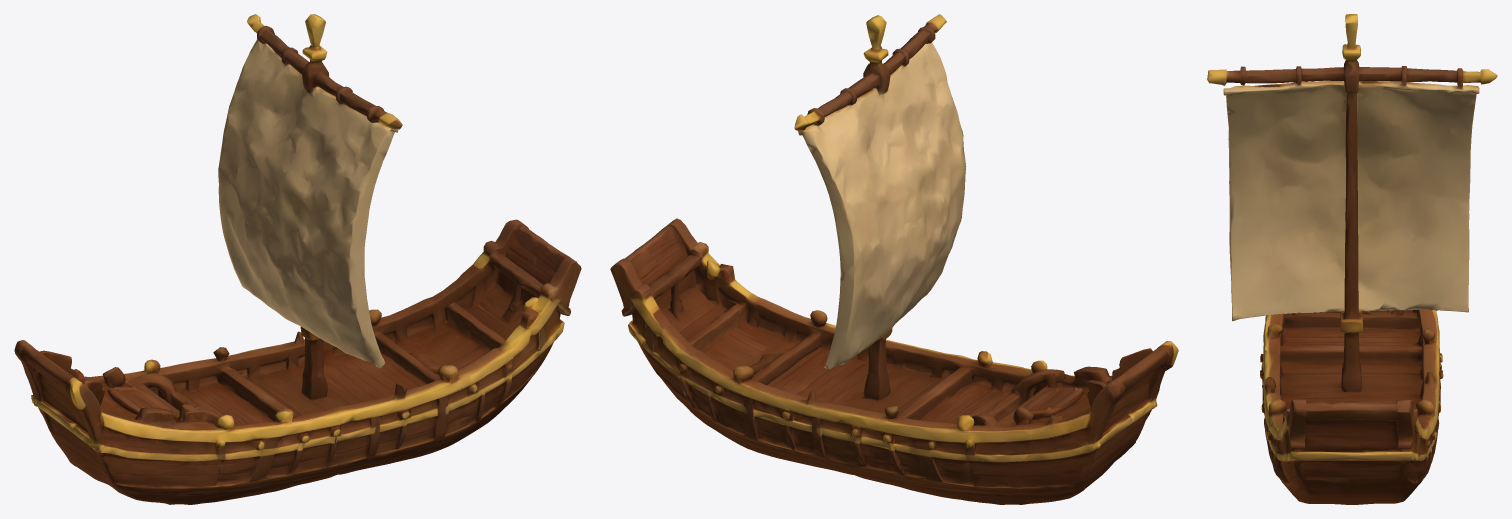
The model's file is ship.glb.
3 renders of one model, left to right at view 1: azimuth 30°, elevation 25°; view 2: azimuth 150°, elevation 25°; view 3: azimuth 270°, elevation 25°, orthographic.
Visible parts, largest first — view 1: tripo_node_1f5bee7b-24a6-4a9c-83f7-f08168e7cc49; view 2: tripo_node_1f5bee7b-24a6-4a9c-83f7-f08168e7cc49; view 3: tripo_node_1f5bee7b-24a6-4a9c-83f7-f08168e7cc49.
Boxes of the visible parts, x1=… form: tripo_node_1f5bee7b-24a6-4a9c-83f7-f08168e7cc49: x1=14, y1=14, x2=581, y2=504; tripo_node_1f5bee7b-24a6-4a9c-83f7-f08168e7cc49: x1=610, y1=14, x2=1178, y2=504; tripo_node_1f5bee7b-24a6-4a9c-83f7-f08168e7cc49: x1=1207, y1=14, x2=1497, y2=504.
Bounding box in the file's own units: 1 × 0.8212 × 0.5009.
Materials: 1 (1 with a texture image).
